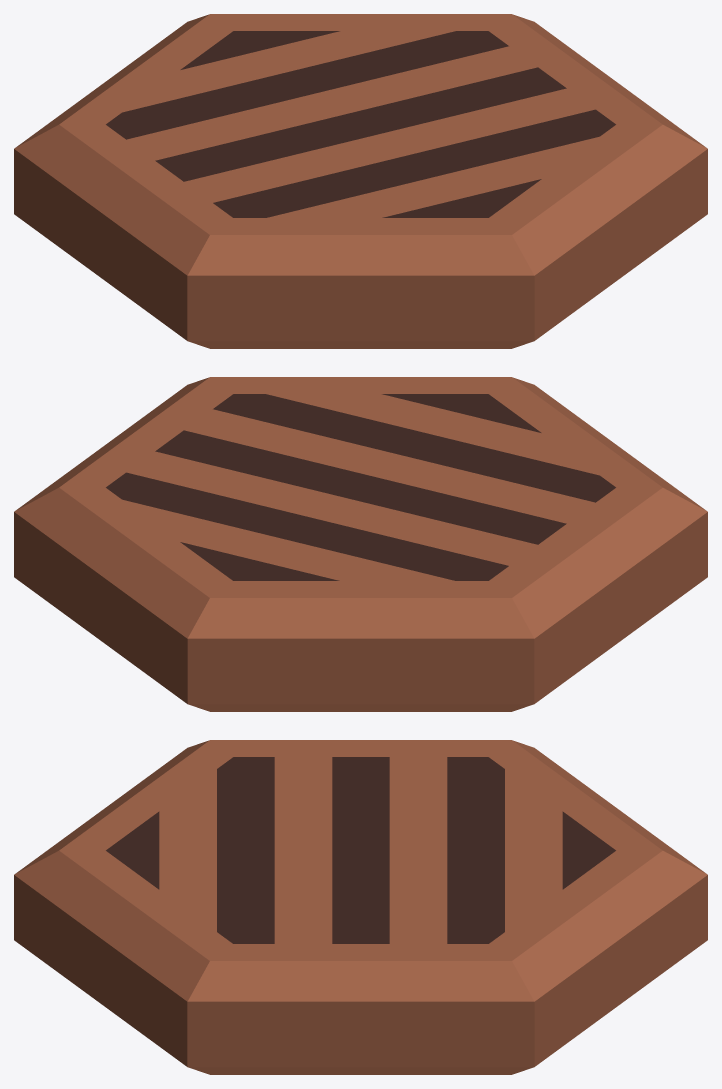
File: meatPatty.fbx
3 renders of one model, top to bottom at view 1: azimuth 30°, elevation 25°; view 2: azimuth 150°, elevation 25°; view 3: azimuth 270°, elevation 25°, orthographic.
Visible parts, largest first — view 1: meatPatty; view 2: meatPatty; view 3: meatPatty.
Boxes of the visible parts, left/top/right/bottom form: meatPatty: left=14, top=14, right=707, bottom=348; meatPatty: left=14, top=377, right=707, bottom=711; meatPatty: left=14, top=740, right=707, bottom=1074.
Bounding box in the file's own units: 2.99 × 0.6243 × 3.45.
